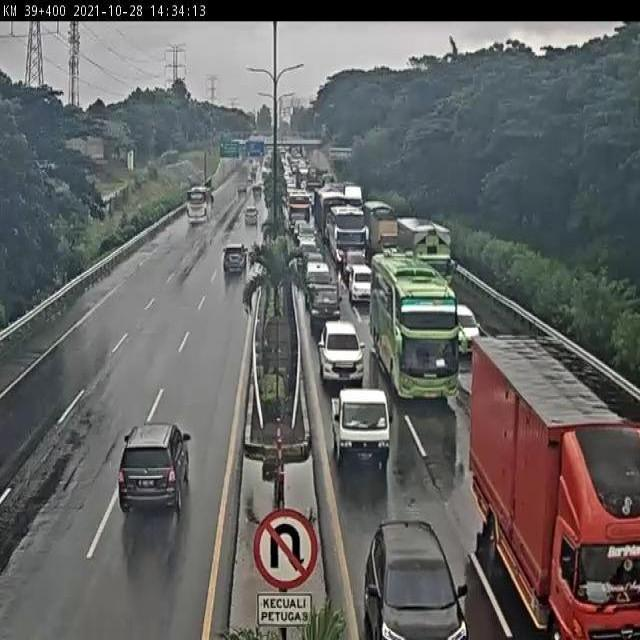bus-l-: (374, 260, 454, 397), (330, 205, 370, 263)
car: (117, 424, 187, 513), (331, 376, 388, 455), (315, 312, 364, 375), (309, 280, 342, 333), (447, 299, 477, 348), (302, 260, 335, 296), (350, 265, 373, 303), (341, 250, 367, 278), (297, 238, 318, 266), (296, 224, 318, 248), (302, 250, 323, 270)
truck-l-: (461, 329, 640, 640)
